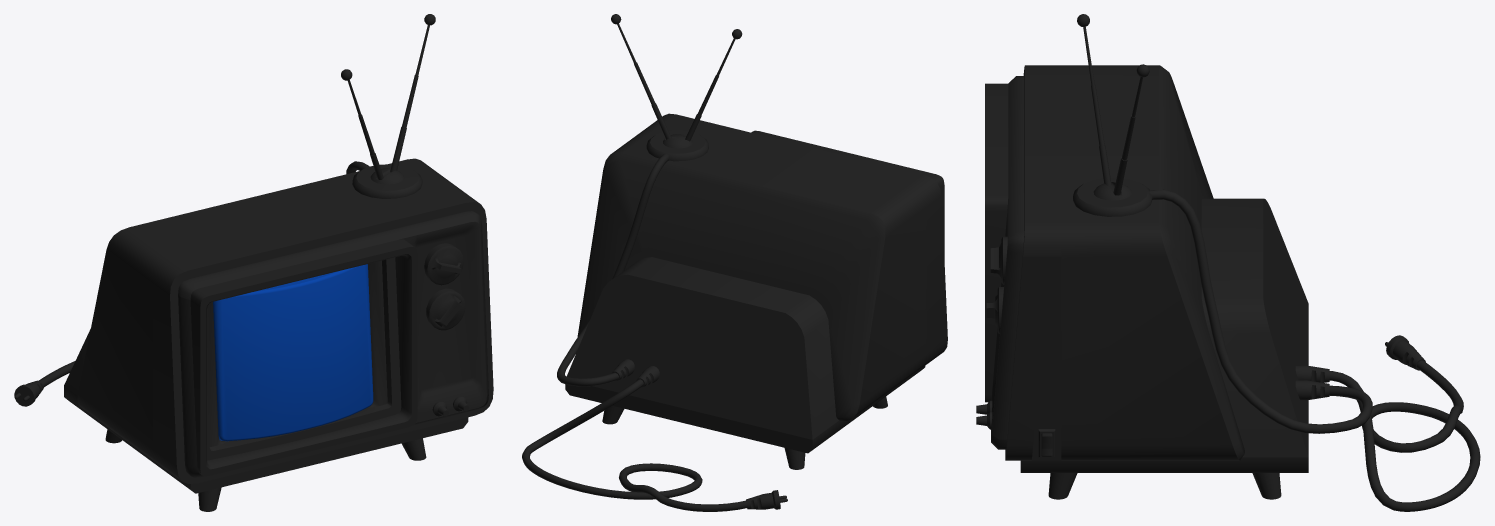
Rendered from cartoon_tv_low.fbx.
3 renders of one model, left to right at view 1: azimuth 30°, elevation 25°; view 2: azimuth 150°, elevation 25°; view 3: azimuth 270°, elevation 25°, orthographic. The views are drawn at different scales.
Parts seen in each view (by area): view 1: front_body_low001, middel_body_low001, screen_low001, rear_body_low001, antena_base_low001, top_regulator_low002, top_regulator_low001, antena_middel_low002, antena_middel_low003; view 2: middel_body_low001, rear_body_low001, front_body_low001, wire_right_low001, wire_left_low001, antena_base_low001, antena_middel_low002, antena_middel_low003; view 3: middel_body_low001, front_body_low001, rear_body_low001, wire_right_low001, wire_left_low001, antena_base_low001, antena_middel_low003, antena_middel_low002, legs_low001, legs_low004, wire_holder_low002, top_regulator_low001.
Boxes of the visible parts, x1,y1,x2,y2 form: front_body_low001: (153, 190, 493, 483); middel_body_low001: (77, 158, 463, 463); screen_low001: (213, 264, 373, 441); rear_body_low001: (64, 328, 468, 493); antena_base_low001: (352, 164, 422, 198); top_regulator_low002: (426, 288, 465, 330); top_regulator_low001: (424, 243, 463, 285); antena_middel_low002: (390, 14, 435, 172); antena_middel_low003: (341, 69, 383, 179); middel_body_low001: (577, 124, 926, 420); rear_body_low001: (565, 257, 925, 453); front_body_low001: (650, 113, 947, 366); wire_right_low001: (522, 379, 747, 511); wire_left_low001: (557, 153, 669, 386); antena_base_low001: (646, 130, 708, 161); antena_middel_low002: (611, 14, 671, 139); antena_middel_low003: (685, 29, 742, 141); middel_body_low001: (1061, 65, 1244, 460); front_body_low001: (985, 65, 1061, 460); rear_body_low001: (1020, 198, 1308, 472); wire_right_low001: (1329, 360, 1480, 511); wire_left_low001: (1149, 189, 1372, 433); antena_base_low001: (1073, 177, 1152, 216); antena_middel_low003: (1077, 14, 1111, 186); antena_middel_low002: (1113, 64, 1149, 195); legs_low001: (1048, 473, 1077, 499); legs_low004: (1252, 473, 1281, 499); wire_holder_low002: (1295, 380, 1329, 400); top_regulator_low001: (990, 236, 1007, 284).
Bounding box in the file's own units: 81.52 × 98.78 × 98.48.
